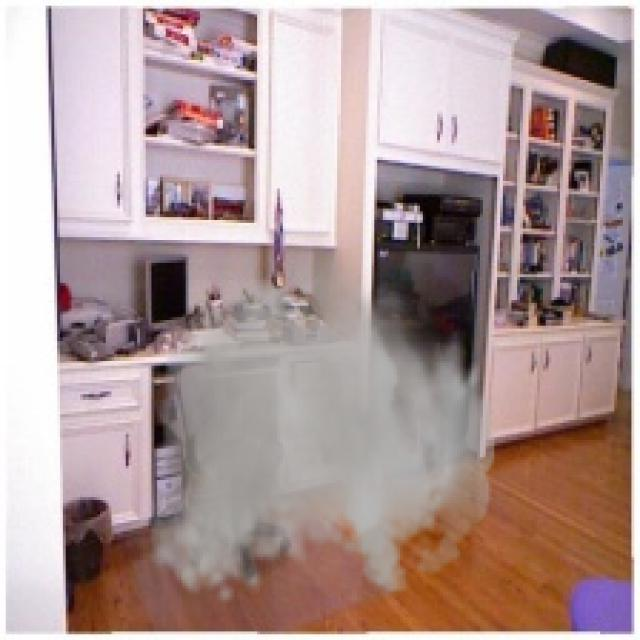smoke: (146, 231, 494, 606)
